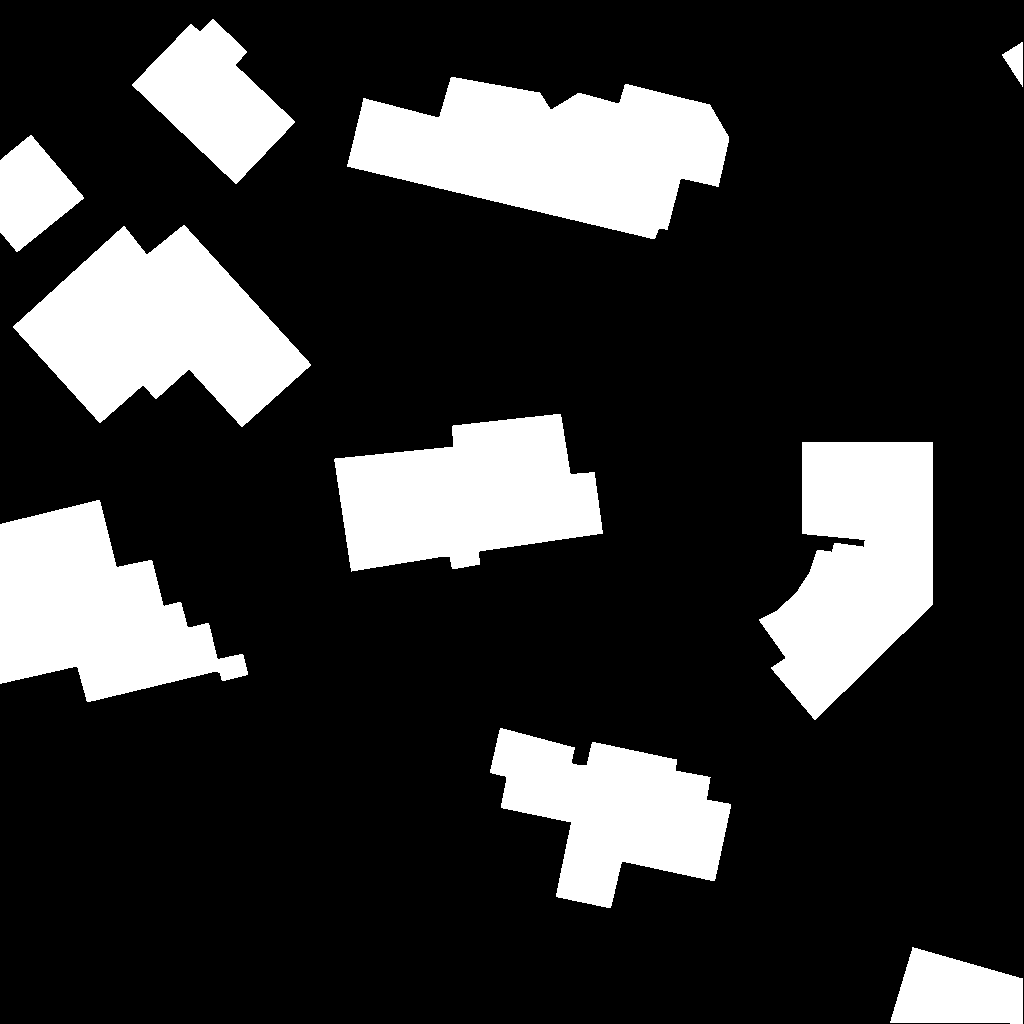building: (347, 77, 730, 240), (13, 225, 312, 428), (0, 500, 249, 703), (759, 442, 934, 721), (490, 728, 732, 909), (334, 414, 604, 572), (132, 19, 296, 185), (890, 947, 1024, 1024), (0, 135, 85, 253), (1002, 42, 1024, 88), (0, 1023, 5, 1024)
